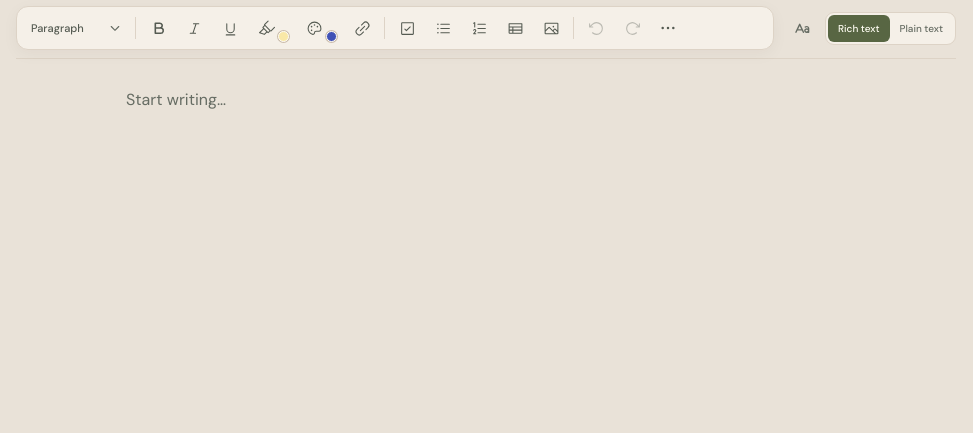
Test: RichTextEditor tables › inserts an editable table and exposes contextual table controls
This screenshot has width=973, height=433.
Click the button named "Insert 3 by 3 table": (515, 28) left=498, top=11, right=532, bottom=45
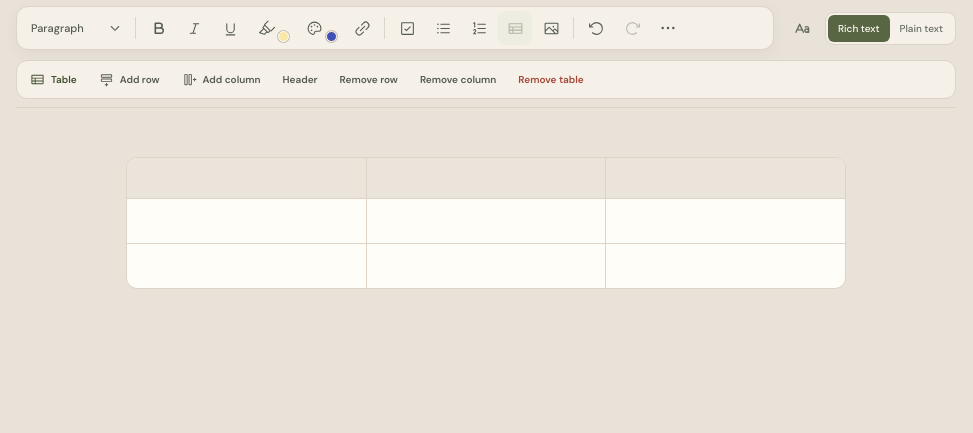
Expected: the number of rows is 3, left=127, top=158, right=845, bottom=198; left=127, top=198, right=845, bottom=243; left=127, top=243, right=845, bottom=288
Expected: the element named "Table editing" is shown, left=16, top=60, right=956, bottom=99
Click the button "Add row": (129, 80) left=90, top=65, right=168, bottom=94
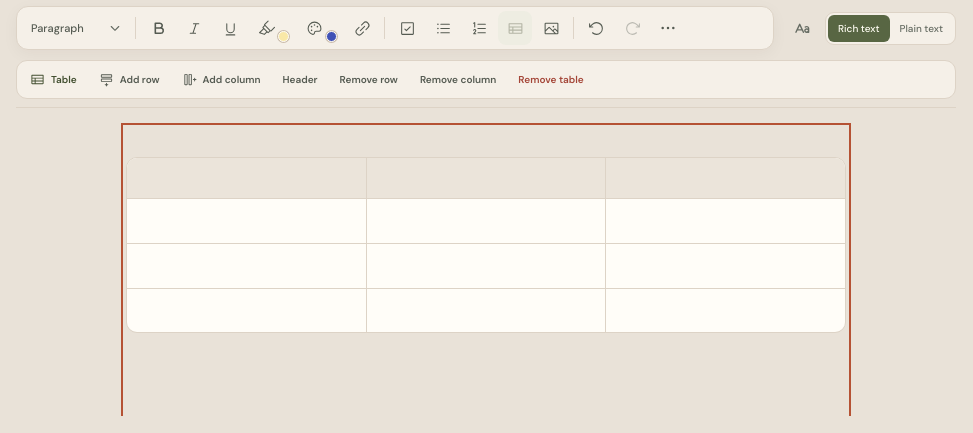
Expected: the number of rows is 4, left=127, top=158, right=845, bottom=198; left=127, top=198, right=845, bottom=243; left=127, top=243, right=845, bottom=288; left=127, top=288, right=845, bottom=332
